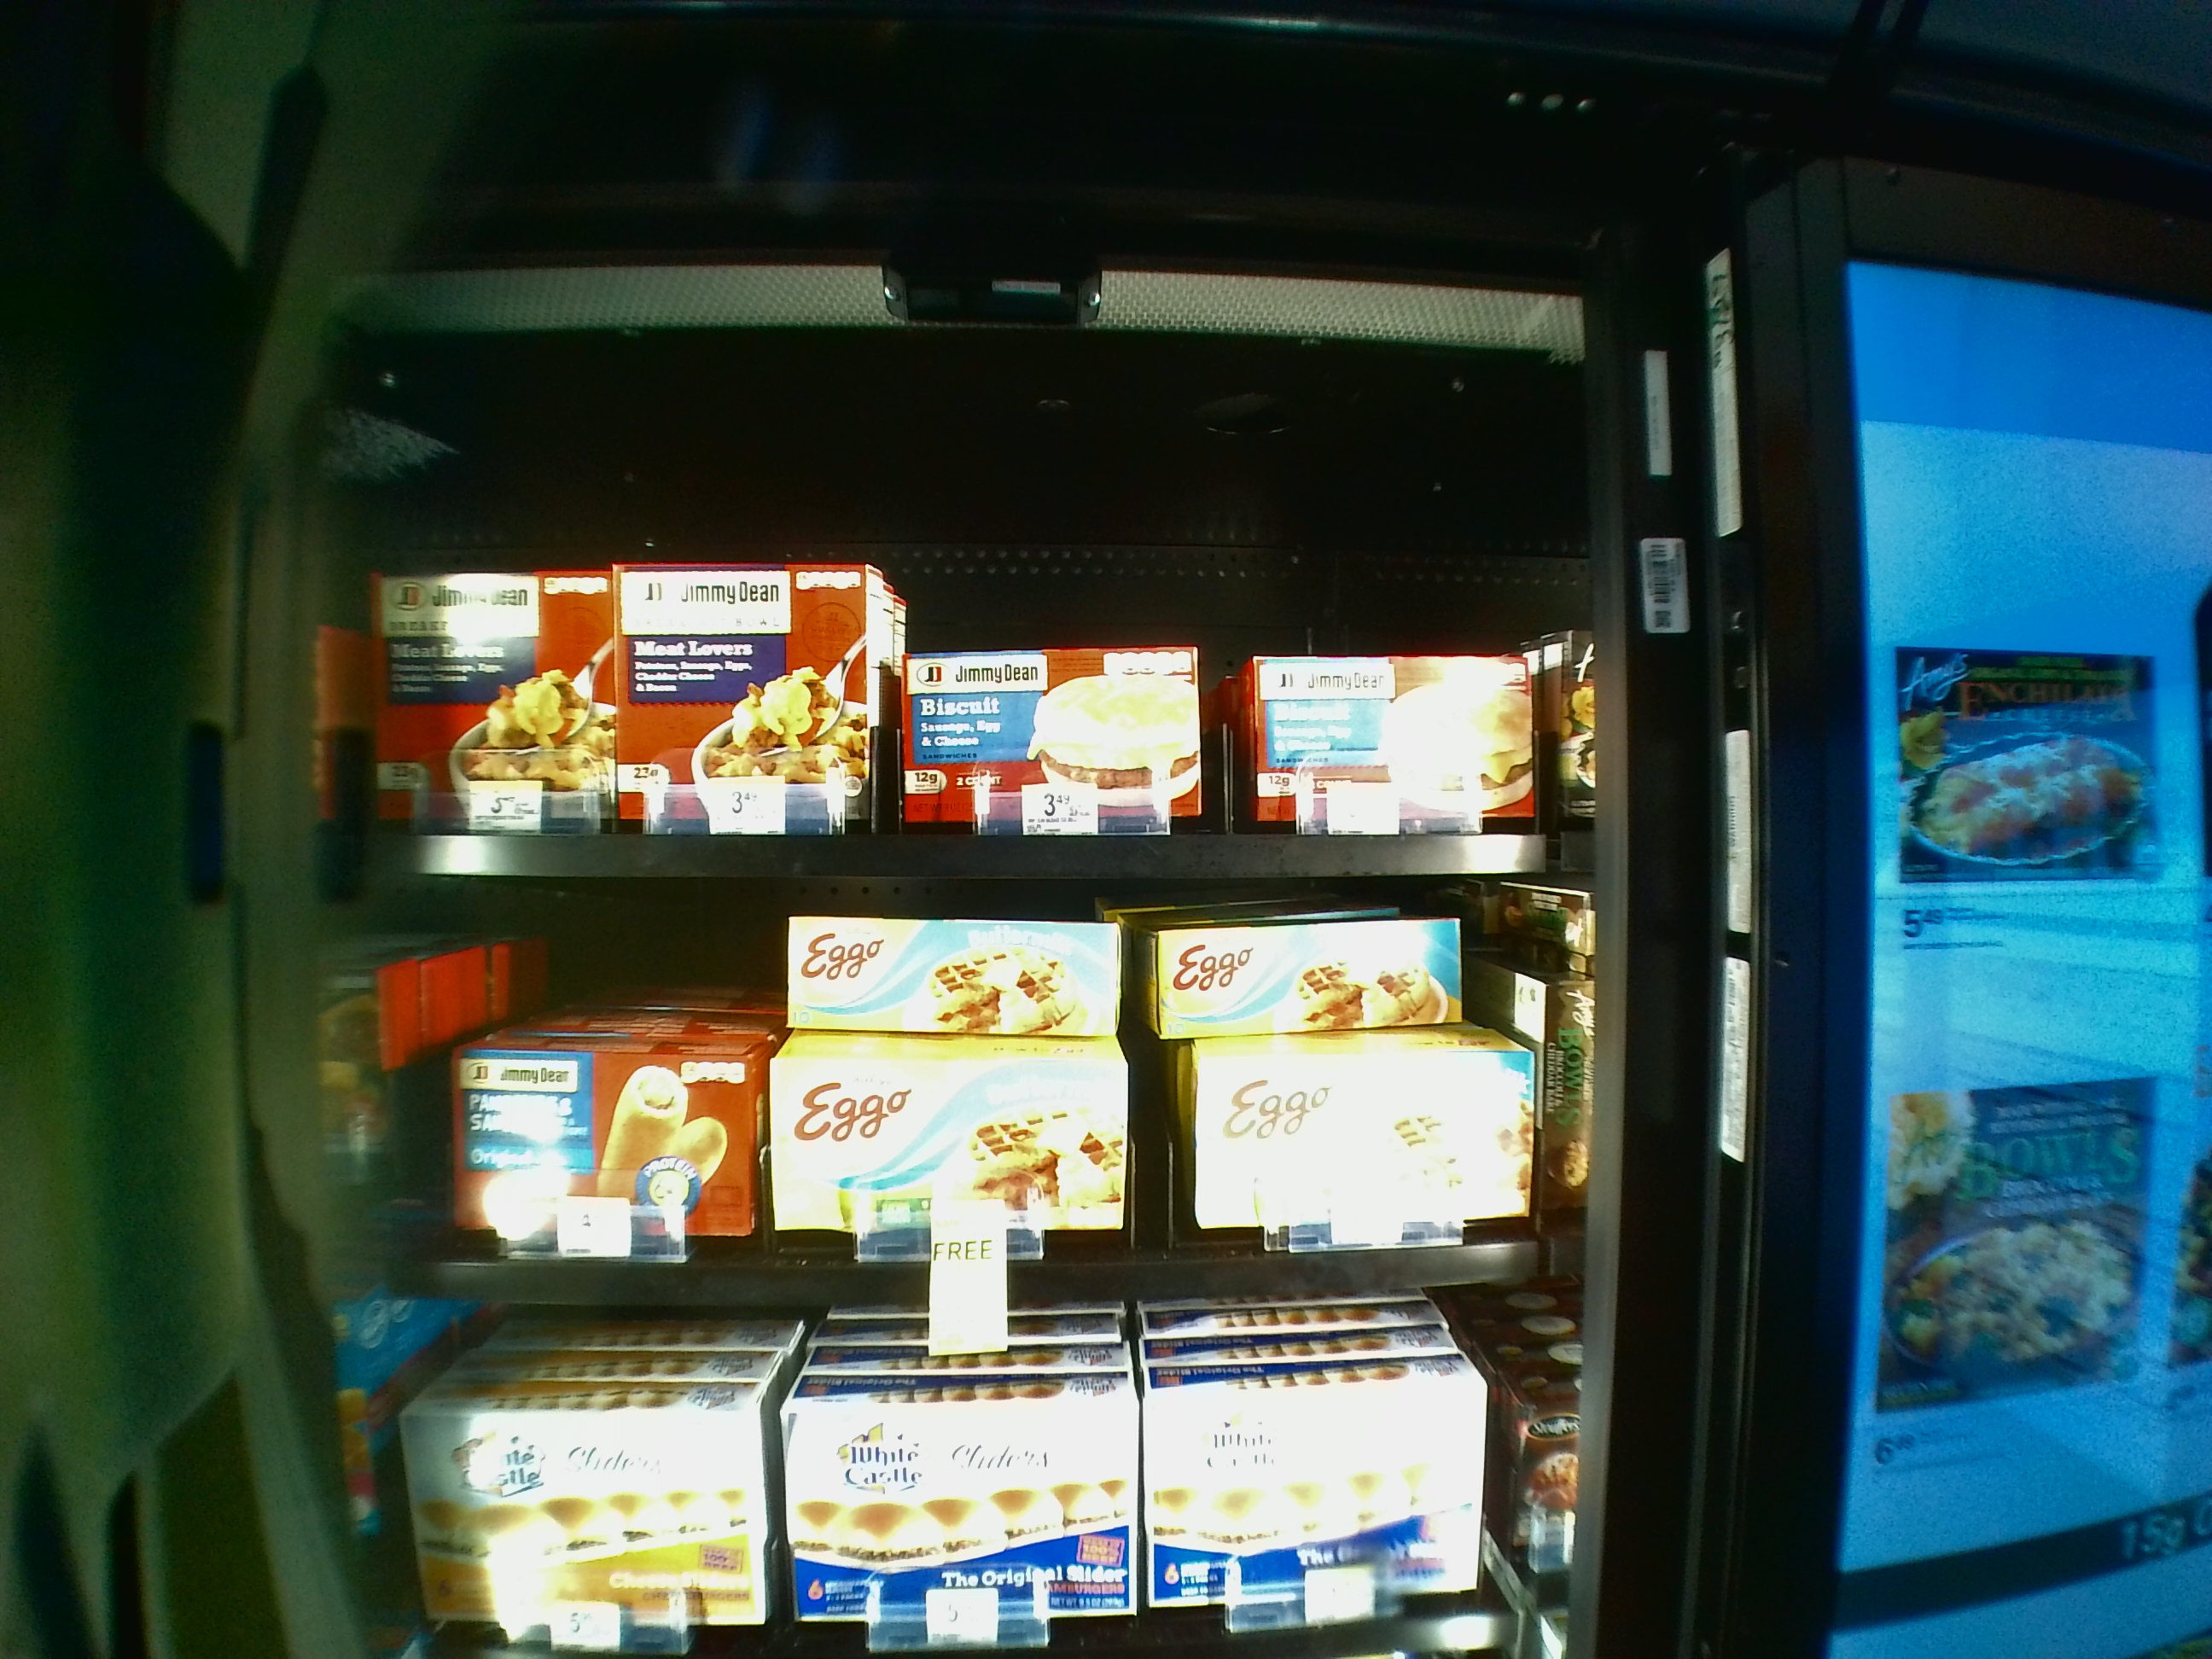shelf: (324, 355, 1578, 871), (310, 892, 1576, 1316)
